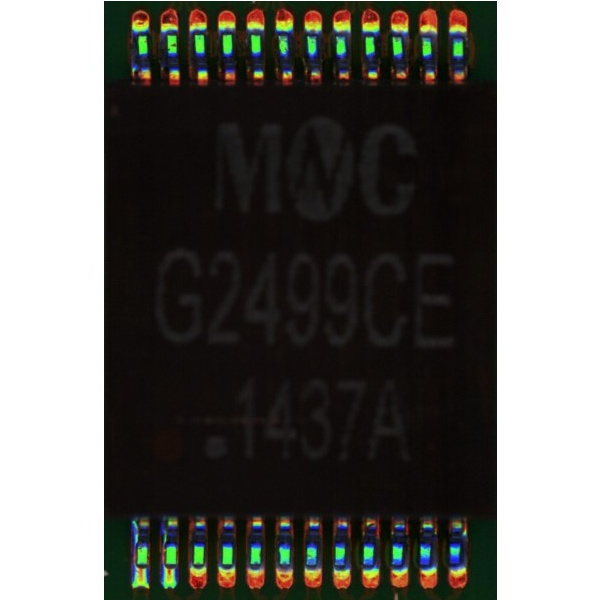Bad_qiaojiao: (131, 517, 137, 564), (160, 528, 164, 564)
